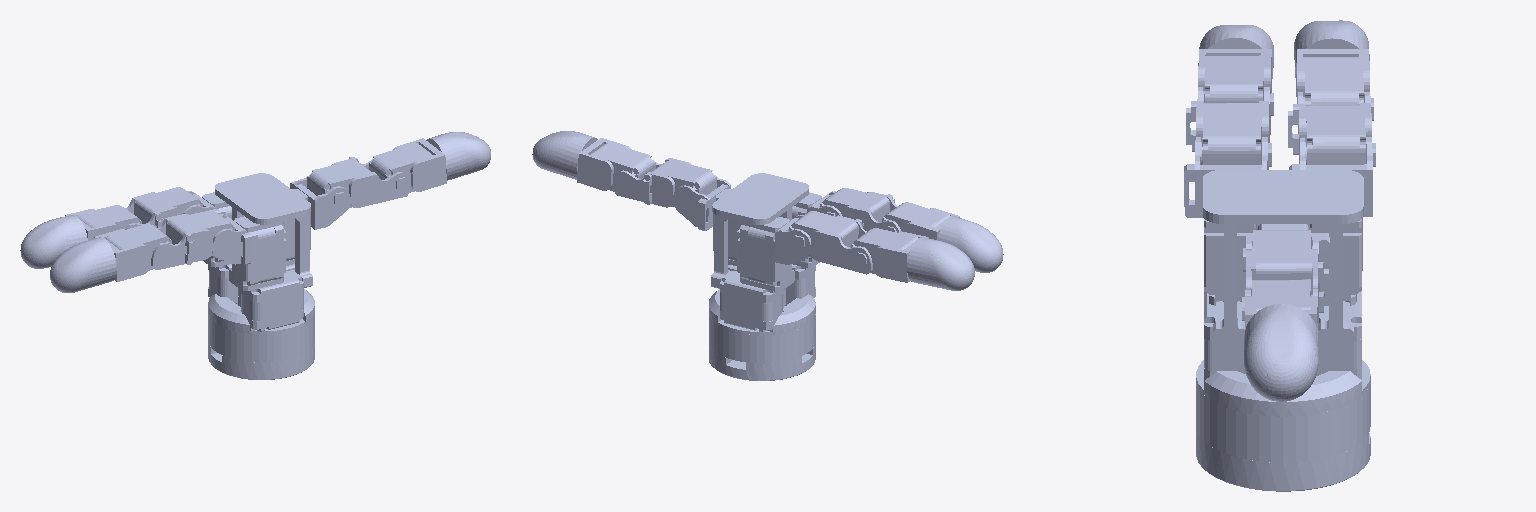
The robot description file, URDF, robot "delto":
<?xml version="1.0" encoding="utf-8"?>
<!-- This URDF was automatically created by SolidWorks to URDF Exporter! Originally created by [author] ([email redacted]) 
     Commit Version: 1.6.0-4-g7f85cfe  Build Version: 1.6.7995.38578
     For more information, please see http://wiki.ros.org/sw_urdf_exporter -->
<robot
  name="delto">
  <link
    name="base_link">
    <inertial>
      <origin
        xyz="0.0163977810461998 -0.000424816867342437 0.078525694814142"
        rpy="0 0 0" />
      <mass
        value="0.292" />
      <inertia
        ixx="0"
        ixy="0"
        ixz="0"
        iyy="0"
        iyz="0"
        izz="0" />
    </inertial>
    <visual>
      <origin
        xyz="0 0 0"
        rpy="0 0 0" />
      <geometry>
        <mesh
          filename="package://delto/meshes/base_link.STL" />
      </geometry>
      <material
        name="">
        <color
          rgba="0.792156862745098 0.819607843137255 0.933333333333333 1" />
      </material>
    </visual>
    <collision>
      <origin
        xyz="0 0 0"
        rpy="0 0 0" />
      <geometry>
        <mesh
          filename="package://delto/meshes/base_link.STL" />
      </geometry>
    </collision>
  </link>
  <link
    name="finger1_link1">
    <inertial>
      <origin
        xyz="0.0163977810461998 -0.000424816867342437 0.078525694814142"
        rpy="0 0 0" />
      <mass
        value="0.048" />
      <inertia
        ixx="0"
        ixy="0"
        ixz="0"
        iyy="0"
        iyz="0"
        izz="0" />
    </inertial>
    <visual>
      <origin
        xyz="0 0 0"
        rpy="0 0 0" />
      <geometry>
        <mesh
          filename="package://delto/meshes/finger1_link1.STL" />
      </geometry>
      <material
        name="">
        <color
          rgba="0.792156862745098 0.819607843137255 0.933333333333333 1" />
      </material>
    </visual>
    <collision>
      <origin
        xyz="0 0 0"
        rpy="0 0 0" />
      <geometry>
        <mesh
          filename="package://delto/meshes/finger1_link1.STL" />
      </geometry>
    </collision>
  </link>
  <joint
    name="finger1_joint1"
    type="revolute">
    <origin
      xyz="0.0150000000430074 0 0.0829999999999999"
      rpy="0 0 0" />
    <parent
      link="base_link" />
    <child
      link="finger1_link1" />
    <axis
      xyz="0 0 1" />
    <limit
      lower="-0.804"
      upper="0.804"
      effort="10"
      velocity="100" />
    <dynamics damping="0.64" friction="1"/>
  </joint>
  <link
    name="finger1_link2">
    <inertial>
      <origin
        xyz="0.0163977810461998 -0.000424816867342437 0.078525694814142"
        rpy="0 0 0" />
      <mass
        value="0.012" />
      <inertia
        ixx="0"
        ixy="0"
        ixz="0"
        iyy="0"
        iyz="0"
        izz="0" />
    </inertial>
    <visual>
      <origin
        xyz="0 0 0"
        rpy="0 0 0" />
      <geometry>
        <mesh
          filename="package://delto/meshes/finger1_link2.STL" />
      </geometry>
      <material
        name="">
        <color
          rgba="0.792156862745098 0.819607843137255 0.933333333333333 1" />
      </material>
    </visual>
    <collision>
      <origin
        xyz="0 0 0"
        rpy="0 0 0" />
      <geometry>
        <mesh
          filename="package://delto/meshes/finger1_link2.STL" />
      </geometry>
    </collision>
  </link>
  <joint
    name="finger1_joint2"
    type="revolute">
    <origin
      xyz="0.0114 -5.8419E-05 0.0091"
      rpy="1.5708 0 1.5657" />
    <parent
      link="finger1_link1" />
    <child
      link="finger1_link2" />
    <axis
      xyz="0 0 1" />
    <limit
      lower="-1.714"
      upper="1.714"
      effort="10"
      velocity="100" />
    <dynamics damping="0.64" friction="1"/>
  </joint>
  <link
    name="finger1_link3">
    <inertial>
      <origin
        xyz="0.0163977810461998 -0.000424816867342437 0.078525694814142"
        rpy="0 0 0" />
      <mass
        value="0.038" />
      <inertia
        ixx="0"
        ixy="0"
        ixz="0"
        iyy="0"
        iyz="0"
        izz="0" />
    </inertial>
    <visual>
      <origin
        xyz="0 0 0"
        rpy="0 0 0" />
      <geometry>
        <mesh
          filename="package://delto/meshes/finger1_link3.STL" />
      </geometry>
      <material
        name="">
        <color
          rgba="0.792156862745098 0.819607843137255 0.933333333333333 1" />
      </material>
    </visual>
    <collision>
      <origin
        xyz="0 0 0"
        rpy="0 0 0" />
      <geometry>
        <mesh
          filename="package://delto/meshes/finger1_link3.STL" />
      </geometry>
    </collision>
  </link>
  <joint
    name="finger1_joint3"
    type="revolute">
    <origin
      xyz="-0.014938 0.0098942 0.0203"
      rpy="1.5708 -1.5707 -1.557" />
    <parent
      link="finger1_link2" />
    <child
      link="finger1_link3" />
    <axis
      xyz="0 0 1" />
    <limit
      lower="0"
      upper="2.199"
      effort="10"
      velocity="100" />
    <dynamics damping="0.64" friction="1"/>
  </joint>
  <link
    name="finger1_link4">
    <inertial>
      <origin
        xyz="0.0163977810461998 -0.000424816867342437 0.078525694814142"
        rpy="0 0 0" />
      <mass
        value="0.06" />
      <inertia
        ixx="0"
        ixy="0"
        ixz="0"
        iyy="0"
        iyz="0"
        izz="0" />
    </inertial>
    <visual>
      <origin
        xyz="0 0 0"
        rpy="0 0 0" />
      <geometry>
        <mesh
          filename="package://delto/meshes/finger1_link4.STL" />
      </geometry>
      <material
        name="">
        <color
          rgba="0.792156862745098 0.819607843137255 0.933333333333333 1" />
      </material>
    </visual>
    <collision>
      <origin
        xyz="0 0 0"
        rpy="0 0 0" />
      <geometry>
        <mesh
          filename="package://delto/meshes/finger1_link4.STL" />
      </geometry>
    </collision>
  </link>
  <joint
    name="finger1_joint4"
    type="revolute">
    <origin
      xyz="0.043312 -0.00012363 0"
      rpy="0 0 0" />
    <parent
      link="finger1_link3" />
    <child
      link="finger1_link4" />
    <axis
      xyz="0 0 1" />
    <limit
      lower="-0.376"
      upper="2.225"
      effort="10"
      velocity="100" />
    <dynamics damping="0.64" friction="1"/>
  </joint>
  <link
    name="finger2_link1">
    <inertial>
      <origin
        xyz="0.0163977810461998 -0.000424816867342437 0.078525694814142"
        rpy="0 0 0" />
      <mass
        value="0.048" />
      <inertia
        ixx="0"
        ixy="0"
        ixz="0"
        iyy="0"
        iyz="0"
        izz="0" />
    </inertial>
    <visual>
      <origin
        xyz="0 0 0"
        rpy="0 0 0" />
      <geometry>
        <mesh
          filename="package://delto/meshes/finger2_link1.STL" />
      </geometry>
      <material
        name="">
        <color
          rgba="0.792156862745098 0.819607843137255 0.933333333333333 1" />
      </material>
    </visual>
    <collision>
      <origin
        xyz="0 0 0"
        rpy="0 0 0" />
      <geometry>
        <mesh
          filename="package://delto/meshes/finger2_link1.STL" />
      </geometry>
    </collision>
  </link>
  <joint
    name="finger2_joint1"
    type="revolute">
    <origin
      xyz="-0.0132 0.0196 0.083"
      rpy="0 0 3.1416" />
    <parent
      link="base_link" />
    <child
      link="finger2_link1" />
    <axis
      xyz="0 0 1" />
    <limit
      lower="-2.147"
      upper="0.788"
      effort="10"
      velocity="100" />
    <dynamics damping="0.64" friction="1"/>
  </joint>
  <link
    name="finger2_link2">
    <inertial>
      <origin
        xyz="0.0163977810461998 -0.000424816867342437 0.078525694814142"
        rpy="0 0 0" />
      <mass
        value="0.012" />
      <inertia
        ixx="0"
        ixy="0"
        ixz="0"
        iyy="0"
        iyz="0"
        izz="0" />
    </inertial>
    <visual>
      <origin
        xyz="0 0 0"
        rpy="0 0 0" />
      <geometry>
        <mesh
          filename="package://delto/meshes/finger2_link2.STL" />
      </geometry>
      <material
        name="">
        <color
          rgba="0.792156862745098 0.819607843137255 0.933333333333333 1" />
      </material>
    </visual>
    <collision>
      <origin
        xyz="0 0 0"
        rpy="0 0 0" />
      <geometry>
        <mesh
          filename="package://delto/meshes/finger2_link2.STL" />
      </geometry>
    </collision>
  </link>
  <joint
    name="finger2_joint2"
    type="revolute">
    <origin
      xyz="0.014198 -0.00024724 0.0091"
      rpy="0.017412 -1.5708 3.14" />
    <parent
      link="finger2_link1" />
    <child
      link="finger2_link2" />
    <axis
      xyz="0 0 1" />
    <limit
      lower="-1.714"
      upper="1.714"
      effort="10"
      velocity="100" />
    <dynamics damping="0.64" friction="1"/>
  </joint>
  <link
    name="finger2_link3">
    <inertial>
      <origin
        xyz="0.0163977810461998 -0.000424816867342437 0.078525694814142"
        rpy="0 0 0" />
      <mass
        value="0.038" />
      <inertia
        ixx="0"
        ixy="0"
        ixz="0"
        iyy="0"
        iyz="0"
        izz="0" />
    </inertial>
    <visual>
      <origin
        xyz="0 0 0"
        rpy="0 0 0" />
      <geometry>
        <mesh
          filename="package://delto/meshes/finger2_link3.STL" />
      </geometry>
      <material
        name="">
        <color
          rgba="0.792156862745098 0.819607843137255 0.933333333333333 1" />
      </material>
    </visual>
    <collision>
      <origin
        xyz="0 0 0"
        rpy="0 0 0" />
      <geometry>
        <mesh
          filename="package://delto/meshes/finger2_link3.STL" />
      </geometry>
    </collision>
  </link>
  <joint
    name="finger2_joint3"
    type="revolute">
    <origin
      xyz="0.010098 0.014801 0.0175"
      rpy="-1.5708 1.5708 0.00011039" />
    <parent
      link="finger2_link2" />
    <child
      link="finger2_link3" />
    <axis
      xyz="0 0 1" />
    <limit
      lower="0"
      upper="2.199"
      effort="10"
      velocity="100" />
    <dynamics damping="0.64" friction="1"/>
  </joint>
  <link
    name="finger2_link4">
    <inertial>
      <origin
        xyz="0.0163977810461998 -0.000424816867342437 0.078525694814142"
        rpy="0 0 0" />
      <mass
        value="0.06" />
      <inertia
        ixx="0"
        ixy="0"
        ixz="0"
        iyy="0"
        iyz="0"
        izz="0" />
    </inertial>
    <visual>
      <origin
        xyz="0 0 0"
        rpy="0 0 0" />
      <geometry>
        <mesh
          filename="package://delto/meshes/finger2_link4.STL" />
      </geometry>
      <material
        name="">
        <color
          rgba="0.792156862745098 0.819607843137255 0.933333333333333 1" />
      </material>
    </visual>
    <collision>
      <origin
        xyz="0 0 0"
        rpy="0 0 0" />
      <geometry>
        <mesh
          filename="package://delto/meshes/finger2_link4.STL" />
      </geometry>
    </collision>
  </link>
  <joint
    name="finger2_joint4"
    type="revolute">
    <origin
      xyz="-0.043282 0.0016118 0"
      rpy="0 0 0" />
    <parent
      link="finger2_link3" />
    <child
      link="finger2_link4" />
    <axis
      xyz="0 0 1" />
    <limit
      lower="-0.376"
      upper="2.225"
      effort="10"
      velocity="100" />
    <dynamics damping="0.64" friction="1"/>
  </joint>
  <link
    name="finger3_link1">
    <inertial>
      <origin
        xyz="0.0163977810461998 -0.000424816867342437 0.078525694814142"
        rpy="0 0 0" />
      <mass
        value="0.048" />
      <inertia
        ixx="0"
        ixy="0"
        ixz="0"
        iyy="0"
        iyz="0"
        izz="0" />
    </inertial>
    <visual>
      <origin
        xyz="0 0 0"
        rpy="0 0 0" />
      <geometry>
        <mesh
          filename="package://delto/meshes/finger3_link1.STL" />
      </geometry>
      <material
        name="">
        <color
          rgba="0.792156862745098 0.819607843137255 0.933333333333333 1" />
      </material>
    </visual>
    <collision>
      <origin
        xyz="0 0 0"
        rpy="0 0 0" />
      <geometry>
        <mesh
          filename="package://delto/meshes/finger3_link1.STL" />
      </geometry>
    </collision>
  </link>
  <joint
    name="finger3_joint1"
    type="revolute">
    <origin
      xyz="-0.0131999999939963 -0.019600000000007 0.0829999999999988"
      rpy="0 0 3.14159265358979" />
    <parent
      link="base_link" />
    <child
      link="finger3_link1" />
    <axis
      xyz="0 0 1" />
    <limit
      lower="-0.788"
      upper="2.147"
      effort="10"
      velocity="100" />
    <dynamics damping="0.64" friction="1"/>
  </joint>
  <link
    name="finger3_link2">
    <inertial>
      <origin
        xyz="0.0163977810461998 -0.000424816867342437 0.078525694814142"
        rpy="0 0 0" />
      <mass
        value="0.012" />
      <inertia
        ixx="0"
        ixy="0"
        ixz="0"
        iyy="0"
        iyz="0"
        izz="0" />
    </inertial>
    <visual>
      <origin
        xyz="0 0 0"
        rpy="0 0 0" />
      <geometry>
        <mesh
          filename="package://delto/meshes/finger3_link2.STL" />
      </geometry>
      <material
        name="">
        <color
          rgba="0.792156862745098 0.819607843137255 0.933333333333333 1" />
      </material>
    </visual>
    <collision>
      <origin
        xyz="0 0 0"
        rpy="0 0 0" />
      <geometry>
        <mesh
          filename="package://delto/meshes/finger3_link2.STL" />
      </geometry>
    </collision>
  </link>
  <joint
    name="finger3_joint2"
    type="revolute">
    <origin
      xyz="0.0141973935884402 -0.000272057521322411 0.00910000000000048"
      rpy="3.12243250091804 -1.57079631189374 0" />
    <parent
      link="finger3_link1" />
    <child
      link="finger3_link2" />
    <axis
      xyz="0 0 1" />
    <limit
      lower="-1.714"
      upper="1.714"
      effort="10"
      velocity="100" />
    <dynamics damping="0.64" friction="1"/>
  </joint>
  <link
    name="finger3_link3">
    <inertial>
      <origin
        xyz="0.0163977810461998 -0.000424816867342437 0.078525694814142"
        rpy="0 0 0" />
      <mass
        value="0.038" />
      <inertia
        ixx="0"
        ixy="0"
        ixz="0"
        iyy="0"
        iyz="0"
        izz="0" />
    </inertial>
    <visual>
      <origin
        xyz="0 0 0"
        rpy="0 0 0" />
      <geometry>
        <mesh
          filename="package://delto/meshes/finger3_link3.STL" />
      </geometry>
      <material
        name="">
        <color
          rgba="0.792156862745098 0.819607843137255 0.933333333333333 1" />
      </material>
    </visual>
    <collision>
      <origin
        xyz="0 0 0"
        rpy="0 0 0" />
      <geometry>
        <mesh
          filename="package://delto/meshes/finger3_link3.STL" />
      </geometry>
    </collision>
  </link>
  <joint
    name="finger3_joint3"
    type="revolute">
    <origin
      xyz="0.01025 0.014696 0.0175"
      rpy="1.5708 1.5706 3.1314" />
    <parent
      link="finger3_link2" />
    <child
      link="finger3_link3" />
    <axis
      xyz="0 0 1" />
    <limit
      lower="0"
      upper="2.199"
      effort="10"
      velocity="100" />
    <dynamics damping="0.64" friction="1"/>
  </joint>
  <link
    name="finger3_link4">
    <inertial>
      <origin
        xyz="0.0163977810461998 -0.000424816867342437 0.078525694814142"
        rpy="0 0 0" />
      <mass
        value="0.06" />
      <inertia
        ixx="0"
        ixy="0"
        ixz="0"
        iyy="0"
        iyz="0"
        izz="0" />
    </inertial>
    <visual>
      <origin
        xyz="0 0 0"
        rpy="0 0 0" />
      <geometry>
        <mesh
          filename="package://delto/meshes/finger3_link4.STL" />
      </geometry>
      <material
        name="">
        <color
          rgba="0.792156862745098 0.819607843137255 0.933333333333333 1" />
      </material>
    </visual>
    <collision>
      <origin
        xyz="0 0 0"
        rpy="0 0 0" />
      <geometry>
        <mesh
          filename="package://delto/meshes/finger3_link4.STL" />
      </geometry>
    </collision>
  </link>
  <joint
    name="finger3_joint4"
    type="revolute">
    <origin
      xyz="-0.043308 -0.0006013 0"
      rpy="0 0 0" />
    <parent
      link="finger3_link3" />
    <child
      link="finger3_link4" />
    <axis
      xyz="0 0 1" />
    <limit
      lower="-0.376"
      upper="2.225"
      effort="10"
      velocity="100" />
    <dynamics damping="0.64" friction="1"/>
  </joint>
</robot>

--- What the picture shows (computed from the rendered views, not written in the file) ---
3 views of the same robot in one strip: view 1: azimuth 30°, elevation 25°; view 2: azimuth 150°, elevation 25°; view 3: azimuth 270°, elevation 25° (orthographic).
Model delto with 13 links and 12 joints (12 revolute), rooted at base_link, posed all joints at 0.
Visible links, largest first — view 1: base_link, finger3_link4, finger1_link4, finger2_link4, finger1_link3, finger3_link3, finger3_link1, finger2_link3, finger1_link2, finger3_link2, finger1_link1; view 2: base_link, finger2_link4, finger1_link4, finger3_link4, finger2_link3, finger1_link3, finger2_link1, finger3_link3, finger1_link2, finger2_link2, finger1_link1; view 3: base_link, finger1_link4, finger2_link4, finger3_link4, finger3_link3, finger2_link3, finger1_link3, finger3_link1, finger2_link1, finger3_link2, finger2_link2, finger1_link2.
Boxes of the visible links, x1,y1,x2,y2 form: base_link: (208,173,314,379); finger3_link4: (50,223,171,292); finger1_link4: (369,132,490,192); finger2_link4: (20,205,141,268); finger1_link3: (307,157,409,207); finger3_link3: (151,210,234,269); finger3_link1: (232,216,285,290); finger2_link3: (125,187,202,229); finger1_link2: (290,172,350,229); finger3_link2: (212,214,251,264); finger1_link1: (284,189,310,265); base_link: (709,173,815,380); finger2_link4: (851,228,974,290); finger1_link4: (532,131,655,191); finger3_link4: (882,202,1003,272); finger2_link3: (789,211,872,274); finger1_link3: (613,158,716,207); finger2_link1: (737,217,791,291); finger3_link3: (820,188,900,231); finger1_link2: (673,175,730,230); finger2_link2: (775,215,810,264); finger1_link1: (713,189,739,265); base_link: (1196,170,1370,491); finger1_link4: (1244,279,1318,401); finger2_link4: (1294,20,1369,105); finger3_link4: (1198,25,1273,102); finger3_link3: (1186,87,1273,164); finger2_link3: (1288,92,1373,164); finger1_link3: (1242,230,1329,330); finger3_link1: (1204,219,1256,305); finger2_link1: (1310,218,1362,305); finger3_link2: (1184,137,1271,217); finger2_link2: (1289,137,1375,216); finger1_link2: (1243,234,1329,291).
Size in the robot's own frame: 0.3159 by 0.0714 by 0.1189 metres.
13 mesh visuals loaded from 13 distinct referenced files (13 binary STL).